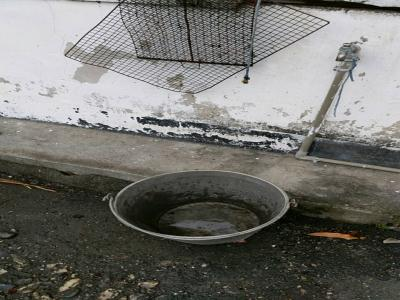bucket: (101, 167, 302, 248)
